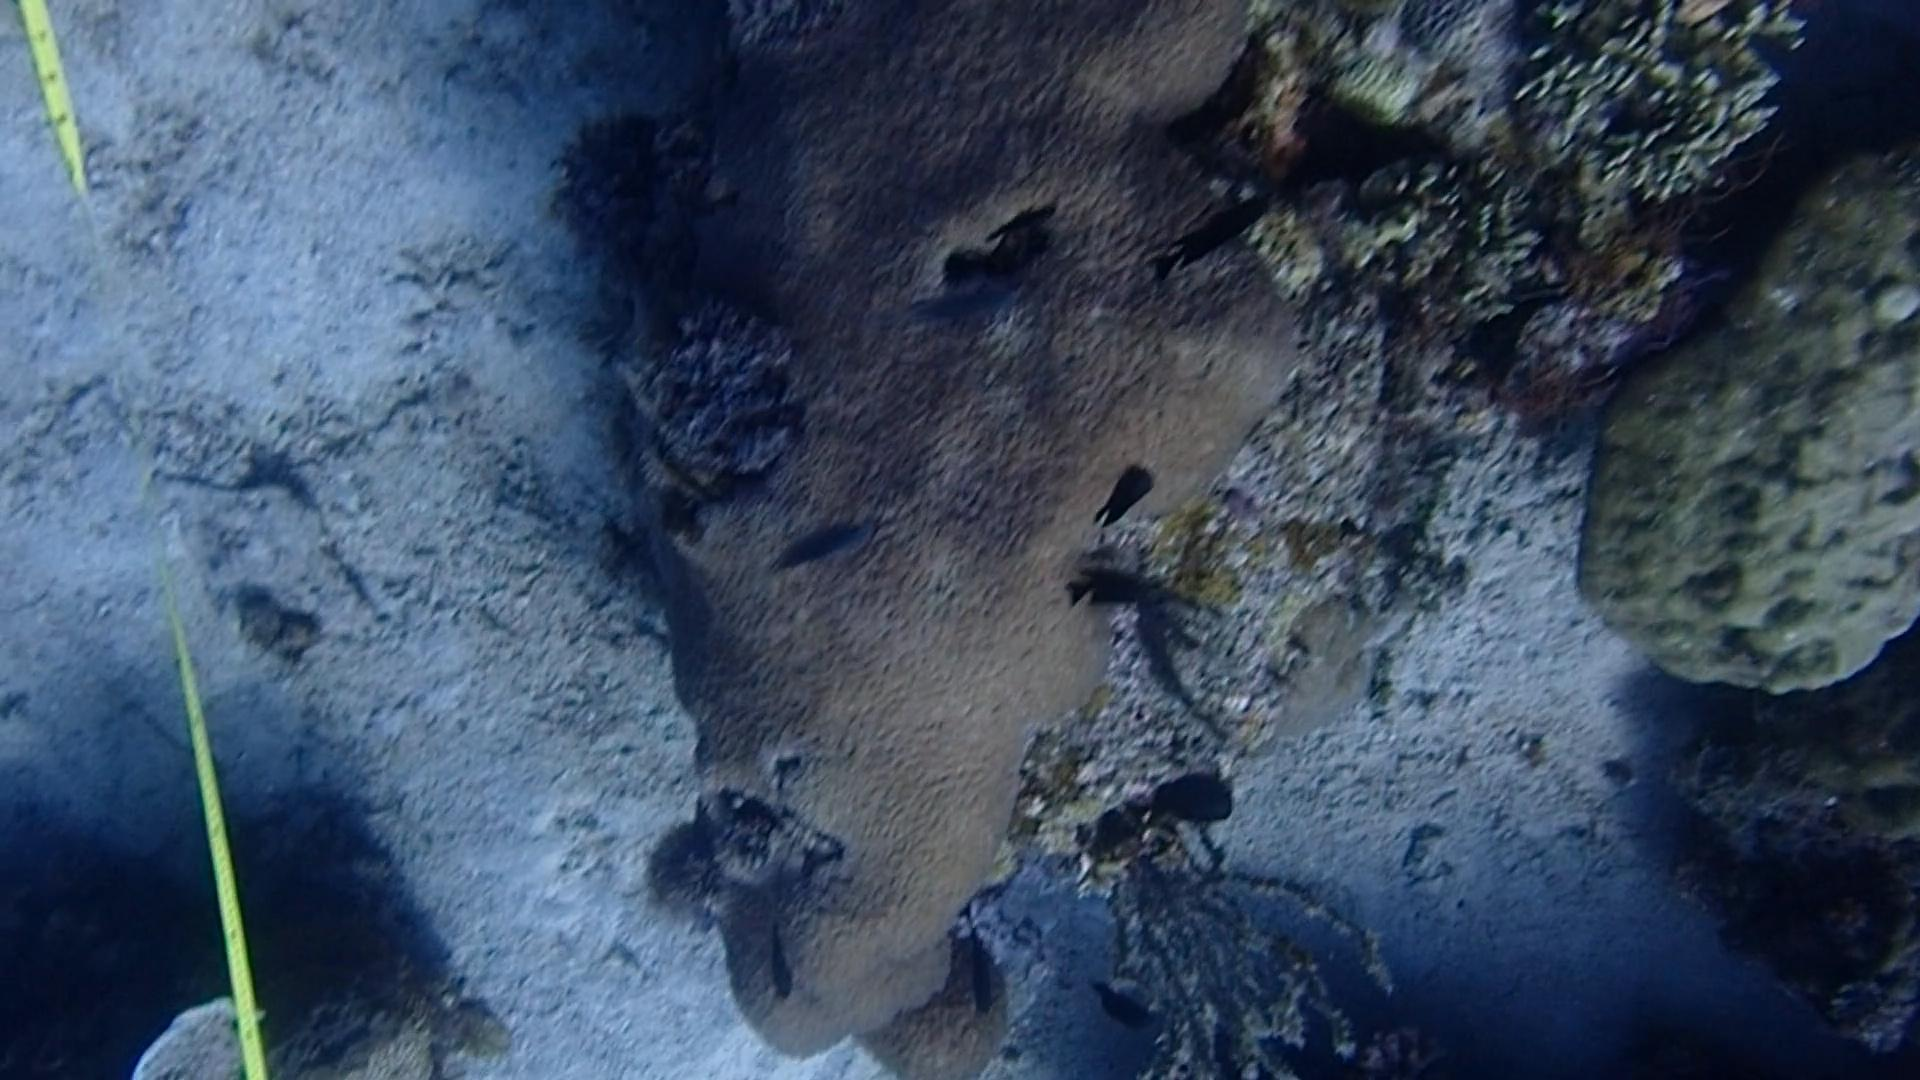Dark Fish: (1134, 185, 1283, 297), (942, 923, 1007, 1026), (1081, 971, 1171, 1042), (1065, 551, 1151, 625), (742, 924, 806, 1018), (1088, 464, 1160, 542)
Light Fish: (885, 273, 1029, 344), (756, 518, 886, 592)
